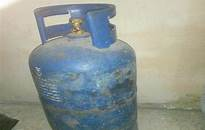blue_gas: (29, 4, 136, 130)
